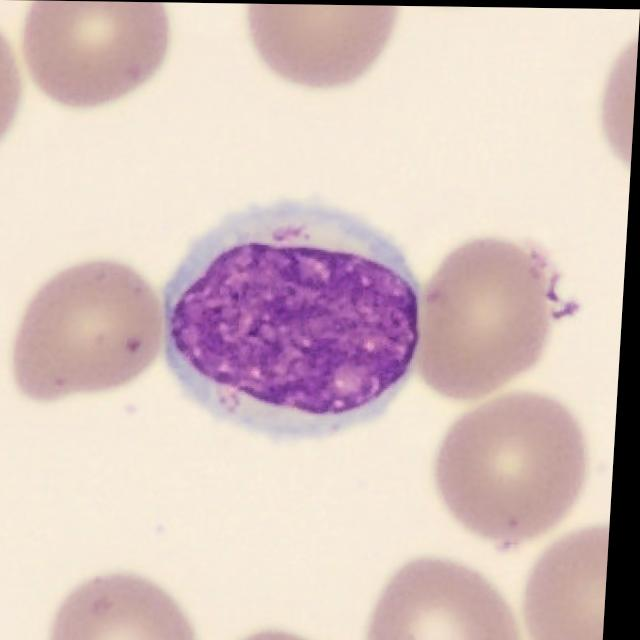Linfocito: (170, 199, 425, 435)
